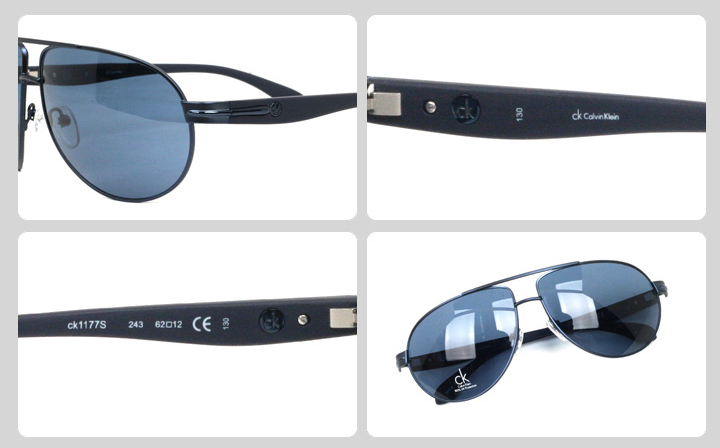Calvin Klein: (563, 105, 626, 131), (443, 361, 473, 392)
